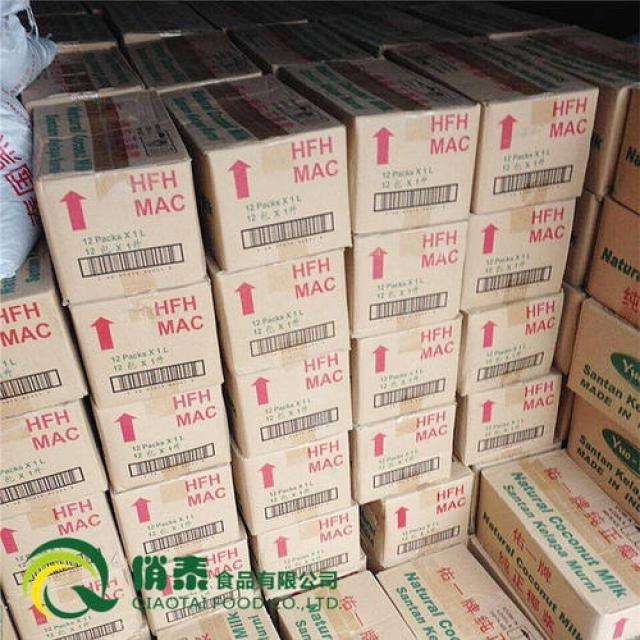box: (29, 88, 207, 307), (160, 73, 353, 273), (381, 37, 599, 214), (278, 56, 483, 234), (476, 448, 640, 640), (499, 27, 640, 201), (68, 279, 225, 407), (207, 250, 351, 378), (375, 544, 543, 640), (0, 242, 90, 419), (91, 384, 232, 493), (111, 463, 243, 575), (0, 492, 128, 603), (224, 351, 356, 458), (349, 221, 467, 337), (0, 399, 109, 522), (360, 456, 476, 570), (351, 312, 463, 429), (460, 200, 577, 311), (234, 434, 352, 538), (454, 362, 562, 468), (134, 539, 256, 632), (456, 292, 564, 396), (351, 402, 456, 504), (566, 296, 640, 439), (250, 506, 362, 600), (275, 568, 419, 640), (6, 568, 150, 640), (568, 396, 640, 526), (125, 31, 261, 91), (582, 201, 640, 333), (20, 46, 145, 106), (229, 20, 379, 70), (324, 10, 472, 49), (155, 596, 280, 640), (110, 4, 218, 44), (563, 189, 604, 289), (612, 84, 640, 215), (38, 13, 118, 52), (552, 282, 585, 375)
